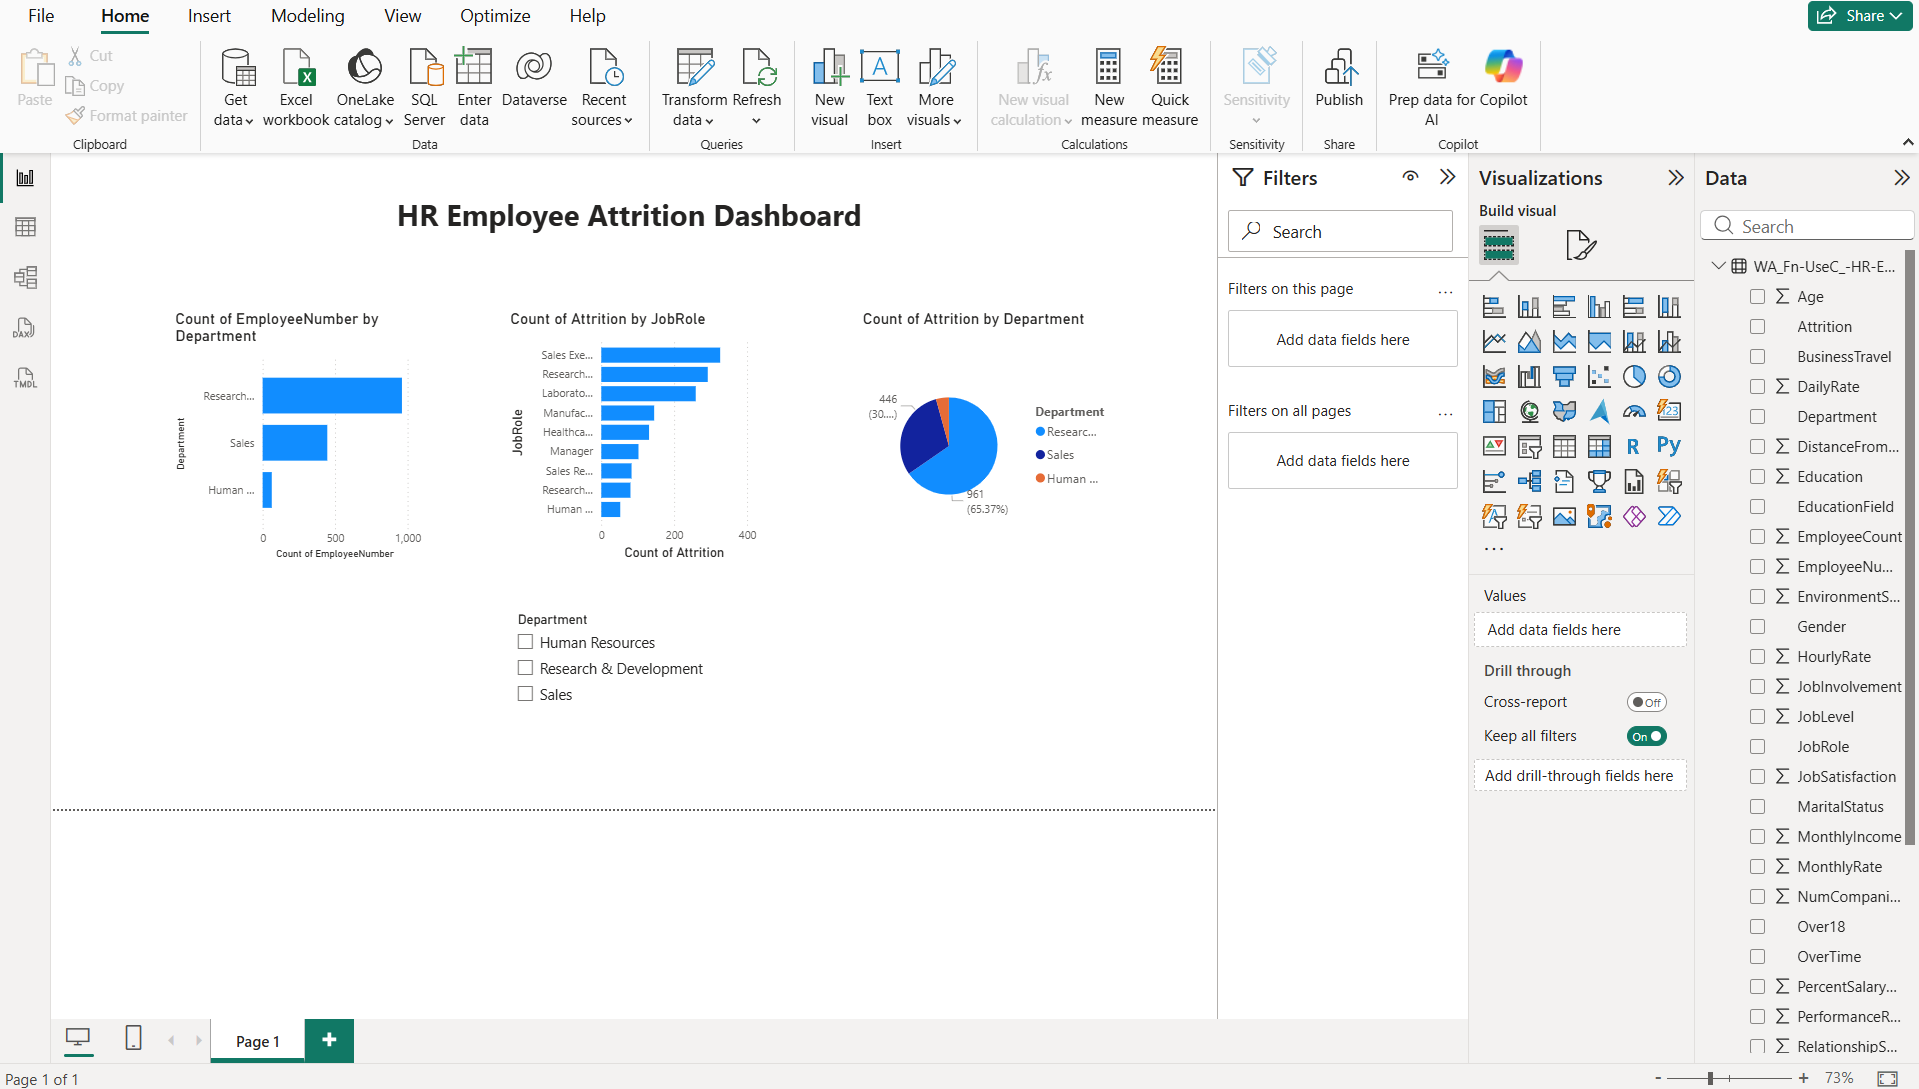

This screenshot's page, from the dashboard's own definition file:
{"tool":"powerbi","page":{"name":"Page 1","canvas":[1280,720],"ordinal":0},"visuals":[{"type":"clusteredBarChart","fields":{"Category":["WA_Fn-UseC_-HR-Employee-Attrition.Department"],"Y":["CountNonNull(WA_Fn-UseC_-HR-Employee-Attrition.EmployeeNumber)"]},"box":[131.7,171.5,279.9,279.9],"z":0},{"type":"pieChart","fields":{"Category":["WA_Fn-UseC_-HR-Employee-Attrition.Department"],"Y":["CountNonNull(WA_Fn-UseC_-HR-Employee-Attrition.Attrition)"]},"box":[886.5,171.5,279.9,279.9],"z":1},{"type":"slicer","fields":{"Values":["WA_Fn-UseC_-HR-Employee-Attrition.Department"]},"box":[499.5,498.1,279.9,150.9],"z":2},{"type":"clusteredBarChart","fields":{"Category":["WA_Fn-UseC_-HR-Employee-Attrition.JobRole"],"Y":["CountNonNull(WA_Fn-UseC_-HR-Employee-Attrition.Attrition)"]},"box":[499.5,171.5,279.9,279.9],"z":3},{"type":"textbox","box":[466.6,20.6,551.6,57.6],"z":4}]}

Visuals, with their boxes on the page's 1280x720 design canvas (x1, y1, x2, y2). These are canvas units, not pixel positions in the 1919x1089 screenshot, which may show the page scaled, cropped or inside an application window:
clusteredBarChart - WA_Fn-UseC_-HR-Employee-Attrition.Department x CountNonNull(WA_Fn-UseC_-HR-Employee-Attrition.EmployeeNumber): [left=132, top=172, right=412, bottom=451]
pieChart - WA_Fn-UseC_-HR-Employee-Attrition.Department x CountNonNull(WA_Fn-UseC_-HR-Employee-Attrition.Attrition): [left=886, top=172, right=1166, bottom=451]
slicer - WA_Fn-UseC_-HR-Employee-Attrition.Department: [left=500, top=498, right=779, bottom=649]
clusteredBarChart - WA_Fn-UseC_-HR-Employee-Attrition.JobRole x CountNonNull(WA_Fn-UseC_-HR-Employee-Attrition.Attrition): [left=500, top=172, right=779, bottom=451]
textbox: [left=467, top=21, right=1018, bottom=78]
